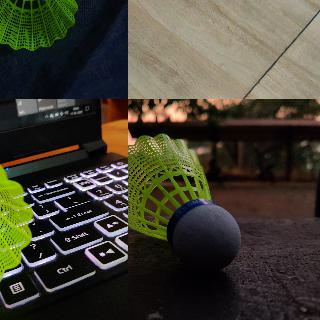shuttlecock: (128, 133, 240, 269), (0, 149, 32, 295), (0, 0, 78, 51)
